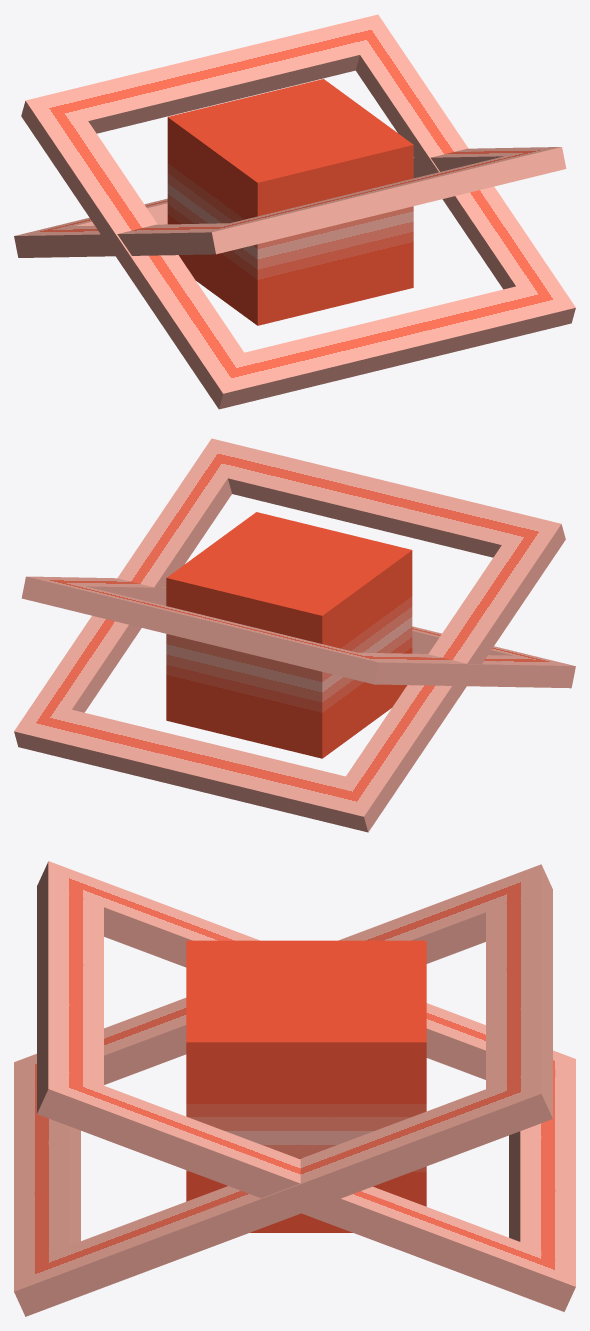
File: planet_orange.gltf
The picture shows the model from 3 angles, top to bottom: view 1: azimuth 30°, elevation 25°; view 2: azimuth 150°, elevation 25°; view 3: azimuth 270°, elevation 25°; orthographic projection. The views are drawn at different scales.
Visible parts, largest first — view 1: anneau2, mesh, anneau; view 2: anneau, mesh, anneau2; view 3: anneau2, anneau, mesh.
Part boxes in pixels (<box>): anneau2: <box>21,14,575,409</box>; mesh: <box>167,79,413,325</box>; anneau: <box>14,147,566,257</box>; anneau: <box>14,438,565,832</box>; mesh: <box>166,512,412,758</box>; anneau2: <box>21,576,575,688</box>; anneau2: <box>14,864,552,1316</box>; anneau: <box>37,861,575,1311</box>; mesh: <box>186,940,426,1232</box>.
Size of the model in its own units: 2.26 by 1.04 by 2.34.
Materials: 1 (1 with a texture image).
